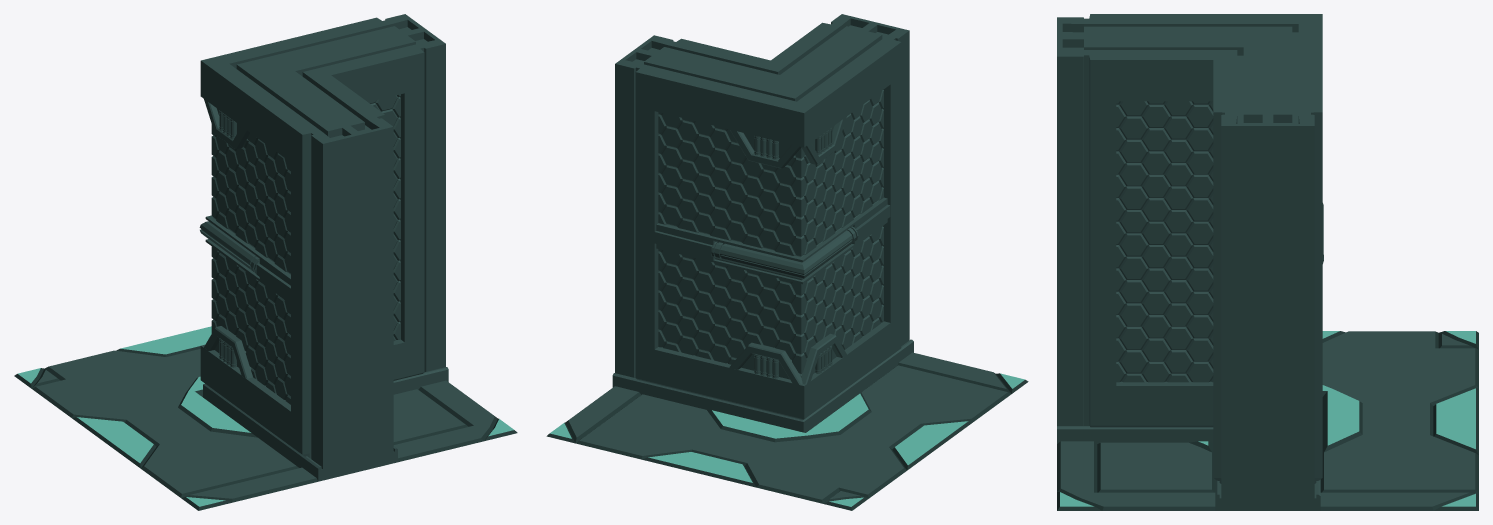
Rendered from Walls_Corner_Var02.fbx.
3 views of the same model, side by side, from view 1: azimuth 30°, elevation 25°; view 2: azimuth 150°, elevation 25°; view 3: azimuth 270°, elevation 25° (orthographic). The views are drawn at different scales.
Visible parts, largest first — view 1: Walls_Corner_Var02; view 2: Walls_Corner_Var02; view 3: Walls_Corner_Var02.
Boxes of the visible parts, box(x1,y1,x2,y2) form: Walls_Corner_Var02: box(14, 14, 517, 510); Walls_Corner_Var02: box(546, 14, 1028, 510); Walls_Corner_Var02: box(1057, 14, 1478, 510).
Size of the model in its own units: 600 by 604 by 600.
